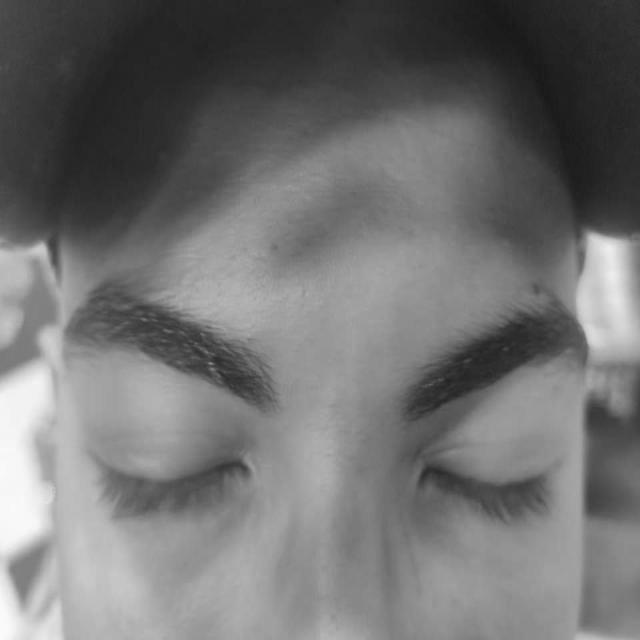real: (76, 354, 578, 558)
